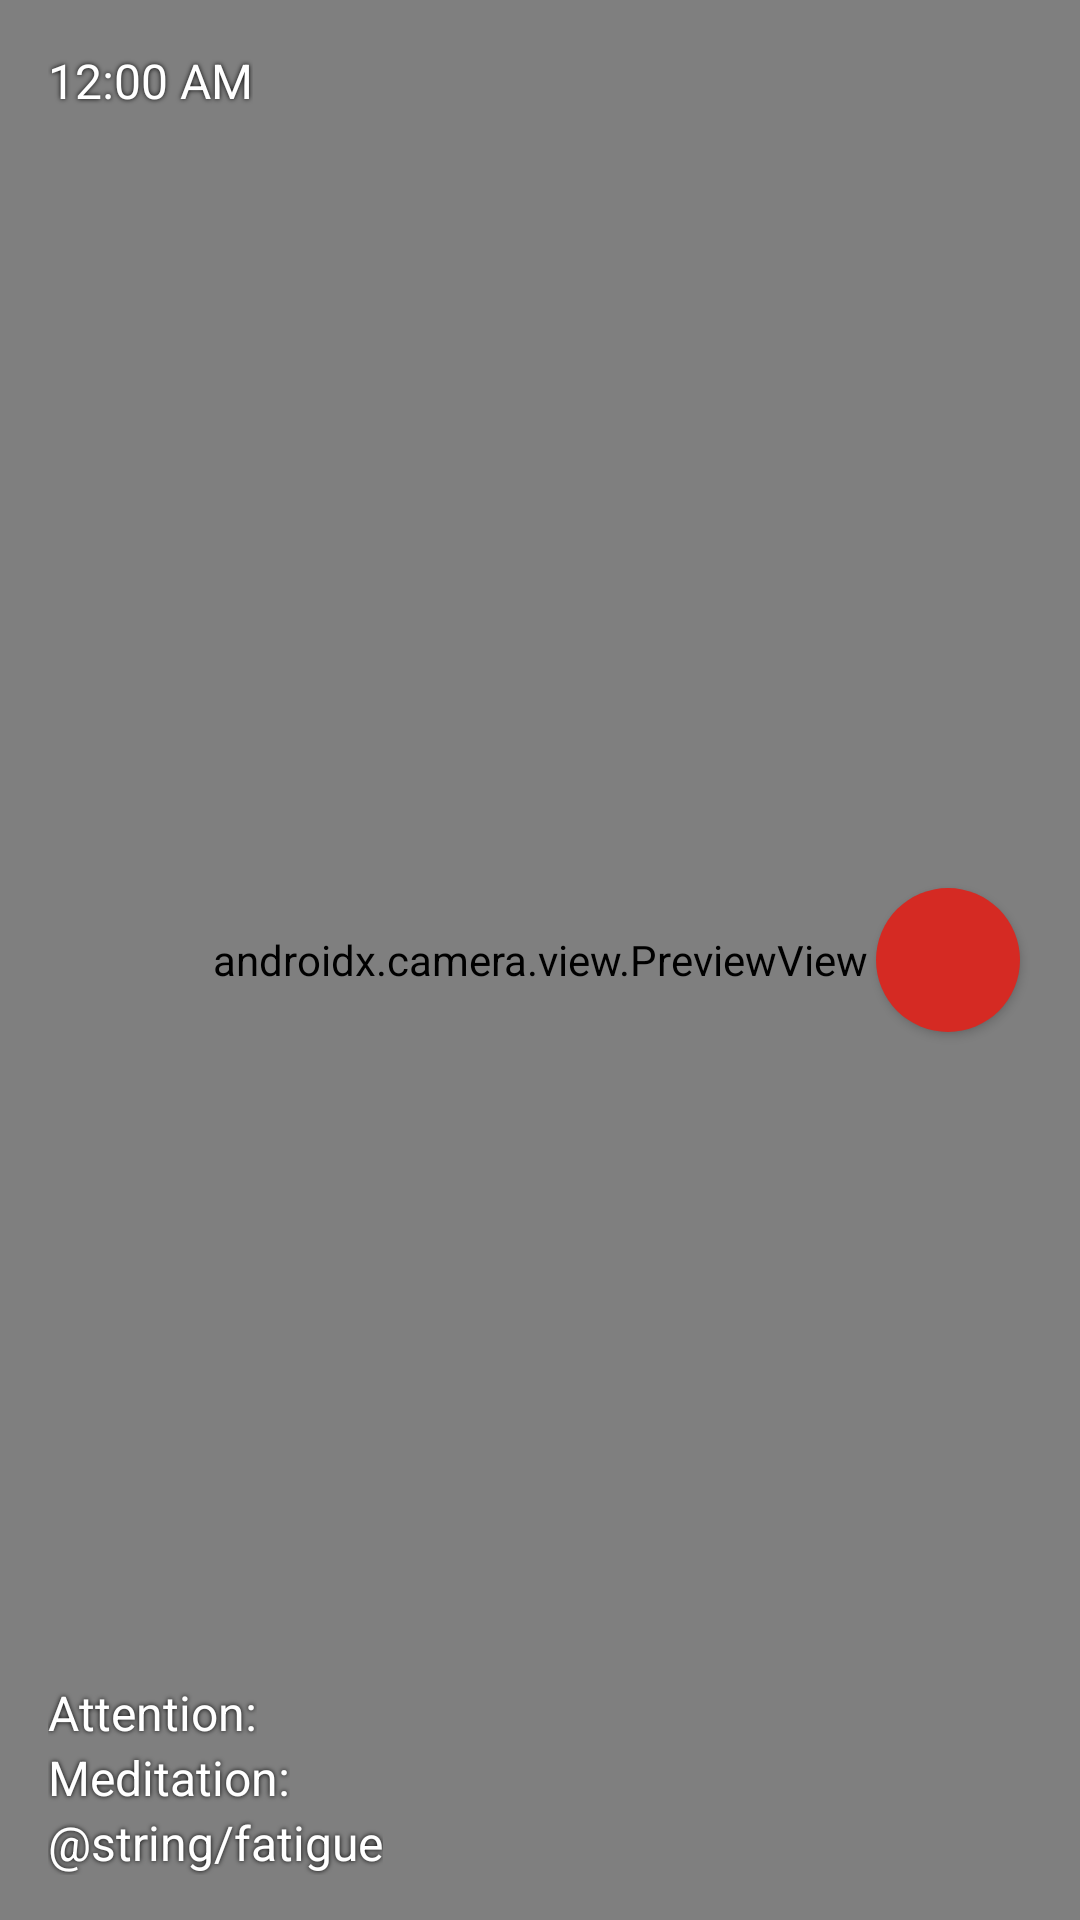

Where to tap for icons on this 1080x1920 app screen, as (x=x, y=y):
start record: (x=948, y=960)
